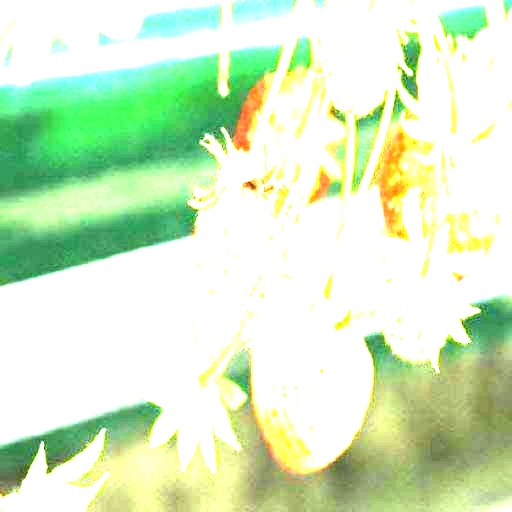Gray Mold: (187, 127, 290, 299)
